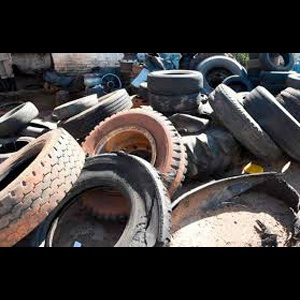tire: (19, 152, 172, 247), (75, 108, 188, 221), (1, 127, 86, 246), (209, 83, 284, 169), (243, 85, 300, 163), (57, 87, 132, 143), (195, 57, 246, 103), (148, 69, 203, 94), (1, 101, 40, 135), (54, 94, 98, 120), (259, 53, 294, 73)
